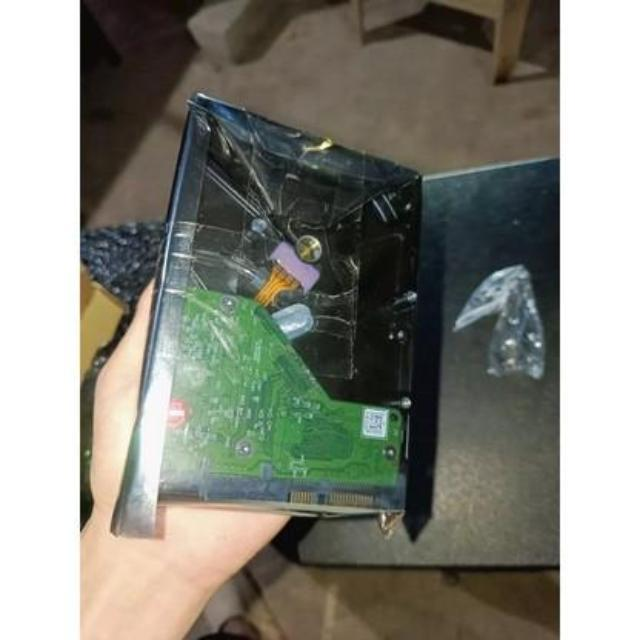DISK: (138, 92, 416, 530)
